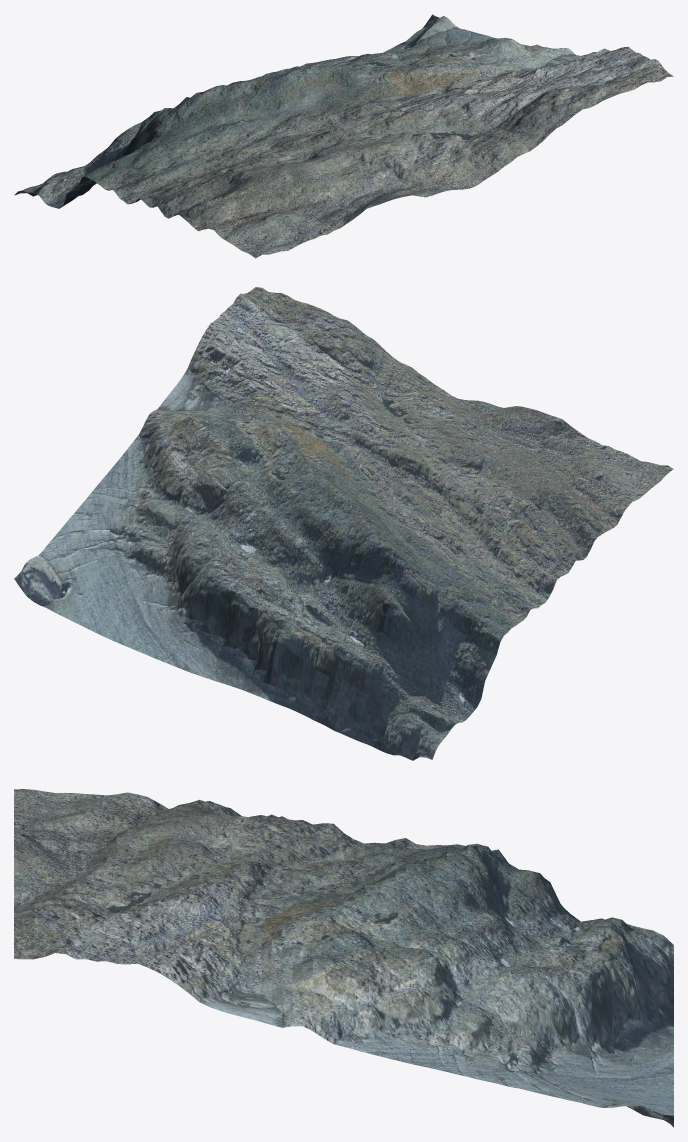
Rendered from Silv_tile_7.gltf.
3 views of the same model, one above another, from view 1: azimuth 30°, elevation 25°; view 2: azimuth 150°, elevation 25°; view 3: azimuth 270°, elevation 25° (orthographic). The views are drawn at different scales.
Parts seen in each view (by area): view 1: 18.009; view 2: 18.009; view 3: 18.009.
Part boxes in pixels (bbox=[...]): 18.009: bbox=[14, 14, 673, 258]; 18.009: bbox=[14, 287, 673, 760]; 18.009: bbox=[14, 789, 673, 1127].
Bounding box in the file's own units: 0.5 × 0.2331 × 0.5.
1 material, 1 textured.
